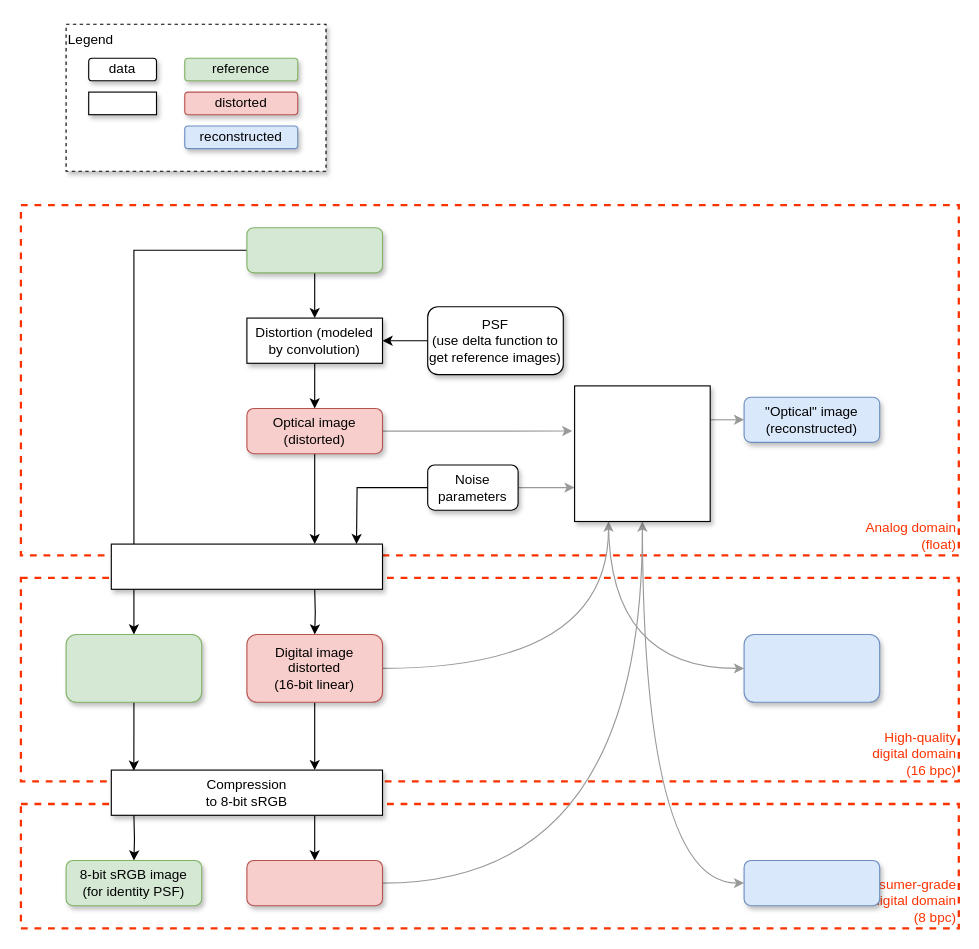
Image size: 979x949. Some labels were removed from this diagram. The centre of each missing label's shape, as x and y in pixels:
8-bit sRGB image (distorted): point 315,884
8-bit sRGB image (reconstructed): point 812,884
Deconvolution (works in floats): point 643,454
Digital image (for identity PSF) (16-bit linear): point 134,669
Digital image reconstructed (16-bit linear): point 812,669
Discretization (16-bit linear ADC): point 247,567
Optical image (not distorted): point 315,251
process: point 123,104
